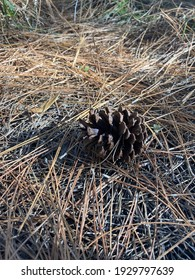Pc: (72, 108, 146, 162)
